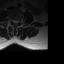CCS_normal: (14, 17, 16, 26)
LFS_normal: (18, 17, 20, 24)
LLS_normal: (16, 17, 18, 25)
RFS_normal: (10, 16, 12, 23)
RLS_normal: (12, 17, 14, 25)
